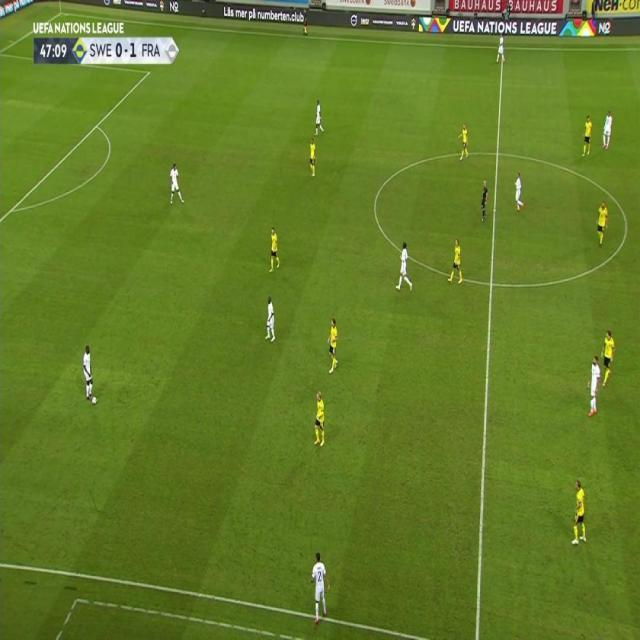ball: (91, 397, 97, 408)
player: (310, 550, 332, 623), (570, 479, 589, 548), (80, 344, 99, 406), (598, 329, 617, 389), (586, 355, 602, 419), (395, 242, 414, 293), (312, 390, 326, 449), (327, 318, 341, 375), (168, 162, 185, 207), (448, 239, 464, 285), (595, 199, 610, 248), (264, 294, 277, 342), (268, 225, 281, 273), (581, 114, 594, 157), (513, 172, 525, 213), (601, 111, 613, 150), (459, 122, 471, 161), (314, 99, 325, 137), (308, 137, 317, 178), (495, 36, 507, 65)
referee: (480, 179, 489, 223), (302, 11, 309, 37)
